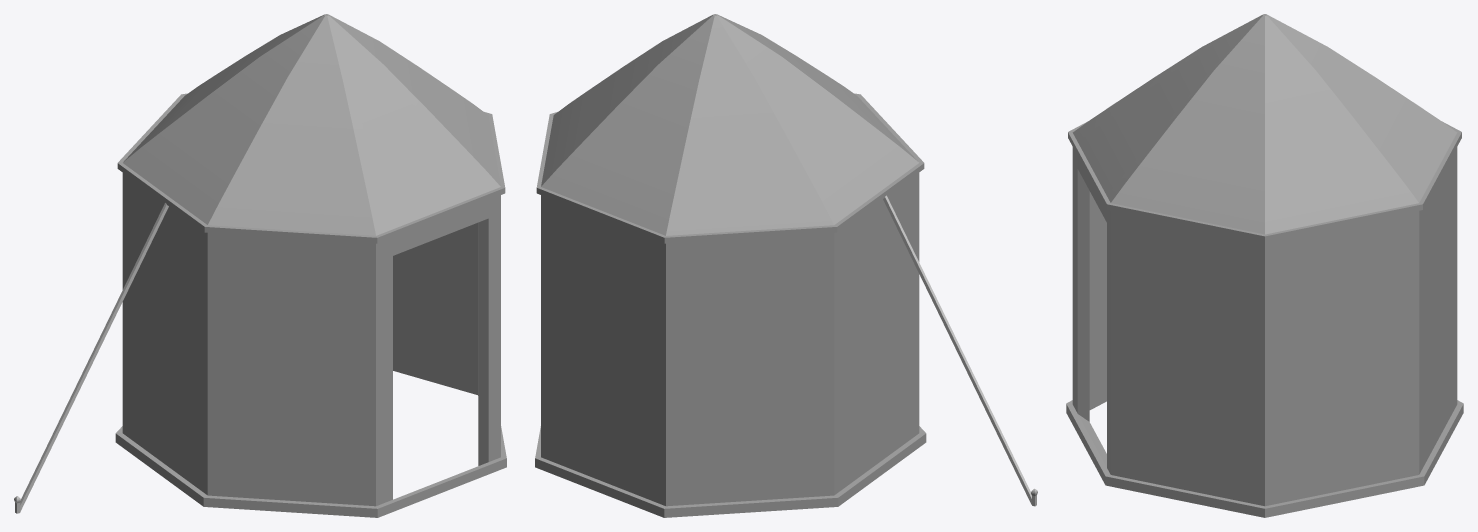
The model's file is Tent.fbx.
3 views of the same model, side by side, from view 1: azimuth 30°, elevation 25°; view 2: azimuth 150°, elevation 25°; view 3: azimuth 270°, elevation 25° (orthographic).
Visible parts, largest first — view 1: pCylinder1, pCube1; view 2: pCylinder1, pCube1; view 3: pCylinder1.
Part boxes in pixels (x1,y1,x2,y2): pCylinder1: (115, 14, 506, 517); pCube1: (20, 203, 168, 511); pCylinder1: (535, 14, 926, 517); pCube1: (883, 195, 1031, 504); pCylinder1: (1066, 14, 1463, 517).
Size of the model in its own units: 28.67 by 23.75 by 20.32.
